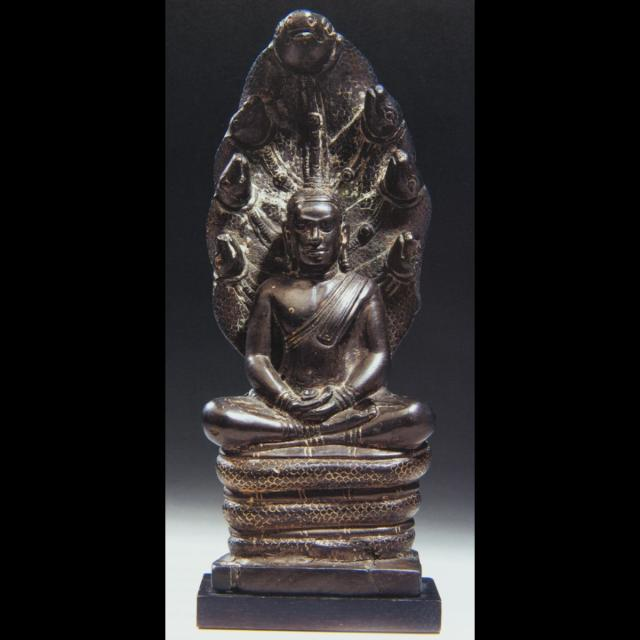buddha-sitting: (207, 148, 438, 588)
